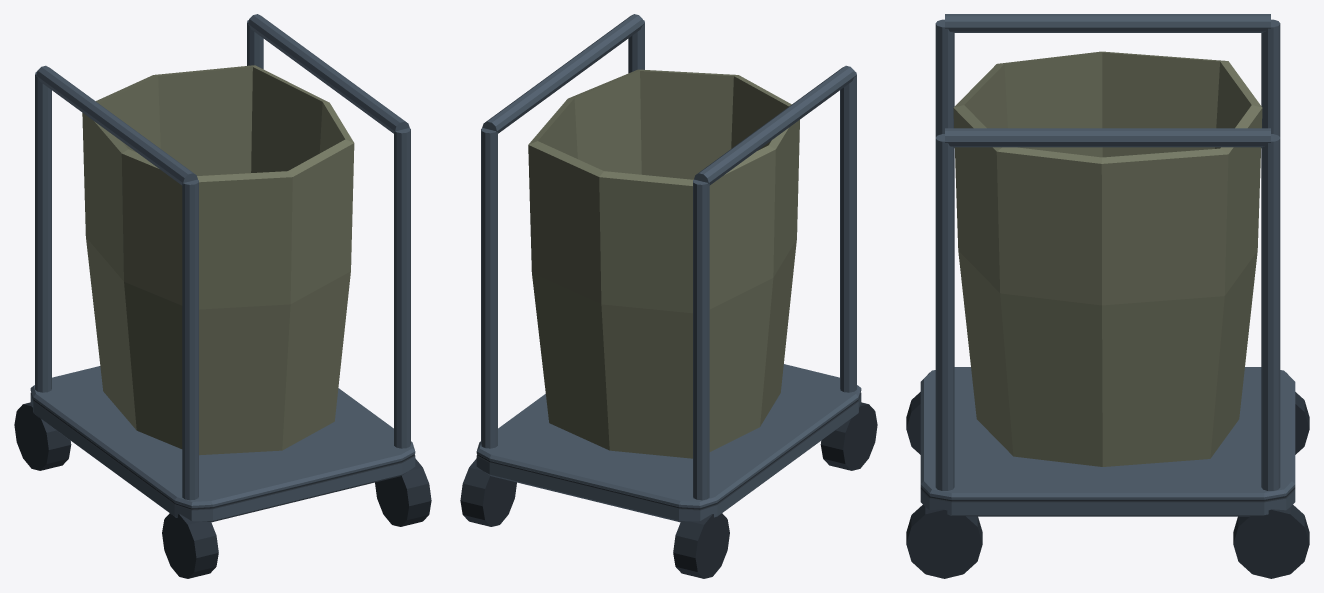
The model's file is C-06_sack_trolley.glb.
3 renders of one model, left to right at view 1: azimuth 30°, elevation 25°; view 2: azimuth 150°, elevation 25°; view 3: azimuth 270°, elevation 25°, orthographic. The views are drawn at different scales.
Visible parts, largest first — view 1: C-06_sack_trolley; view 2: C-06_sack_trolley; view 3: C-06_sack_trolley.
Boxes of the visible parts, box(x1,y1,x2,y2) form: C-06_sack_trolley: box(14, 14, 431, 578); C-06_sack_trolley: box(460, 14, 877, 578); C-06_sack_trolley: box(906, 14, 1309, 578).
Bounding box in the file's own units: 0.51 × 0.8192 × 0.676.
